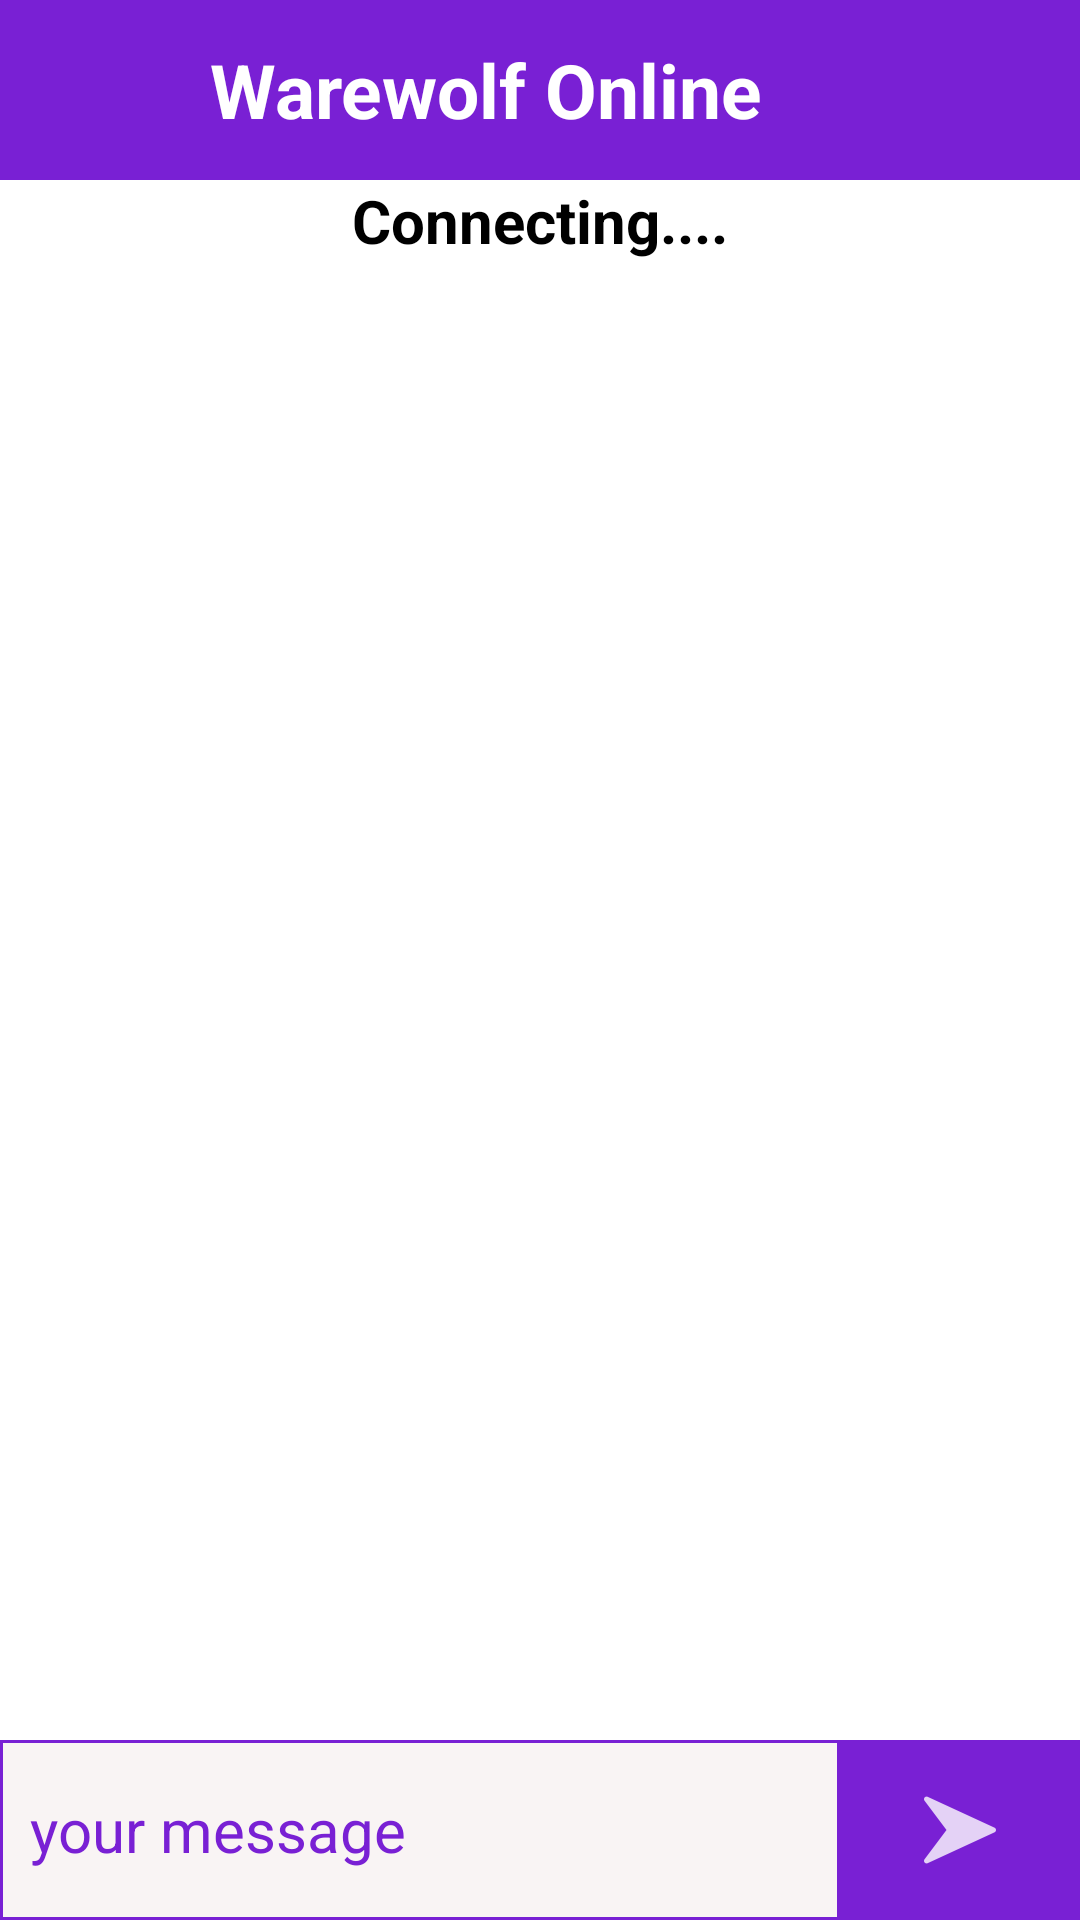

Where icons sit on this 1080 x 1920 app screen, as bbox=[x1, y1, x2, y2]:
send: bbox=[840, 1740, 1080, 1920]
